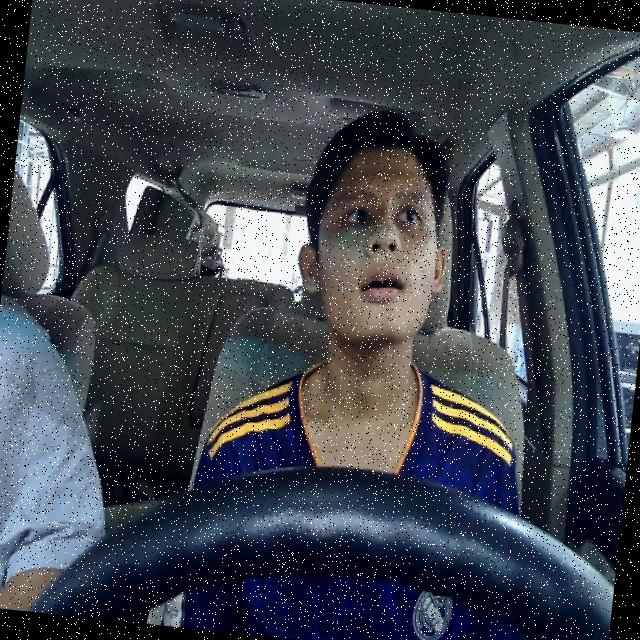yarning: (286, 138, 456, 354)
